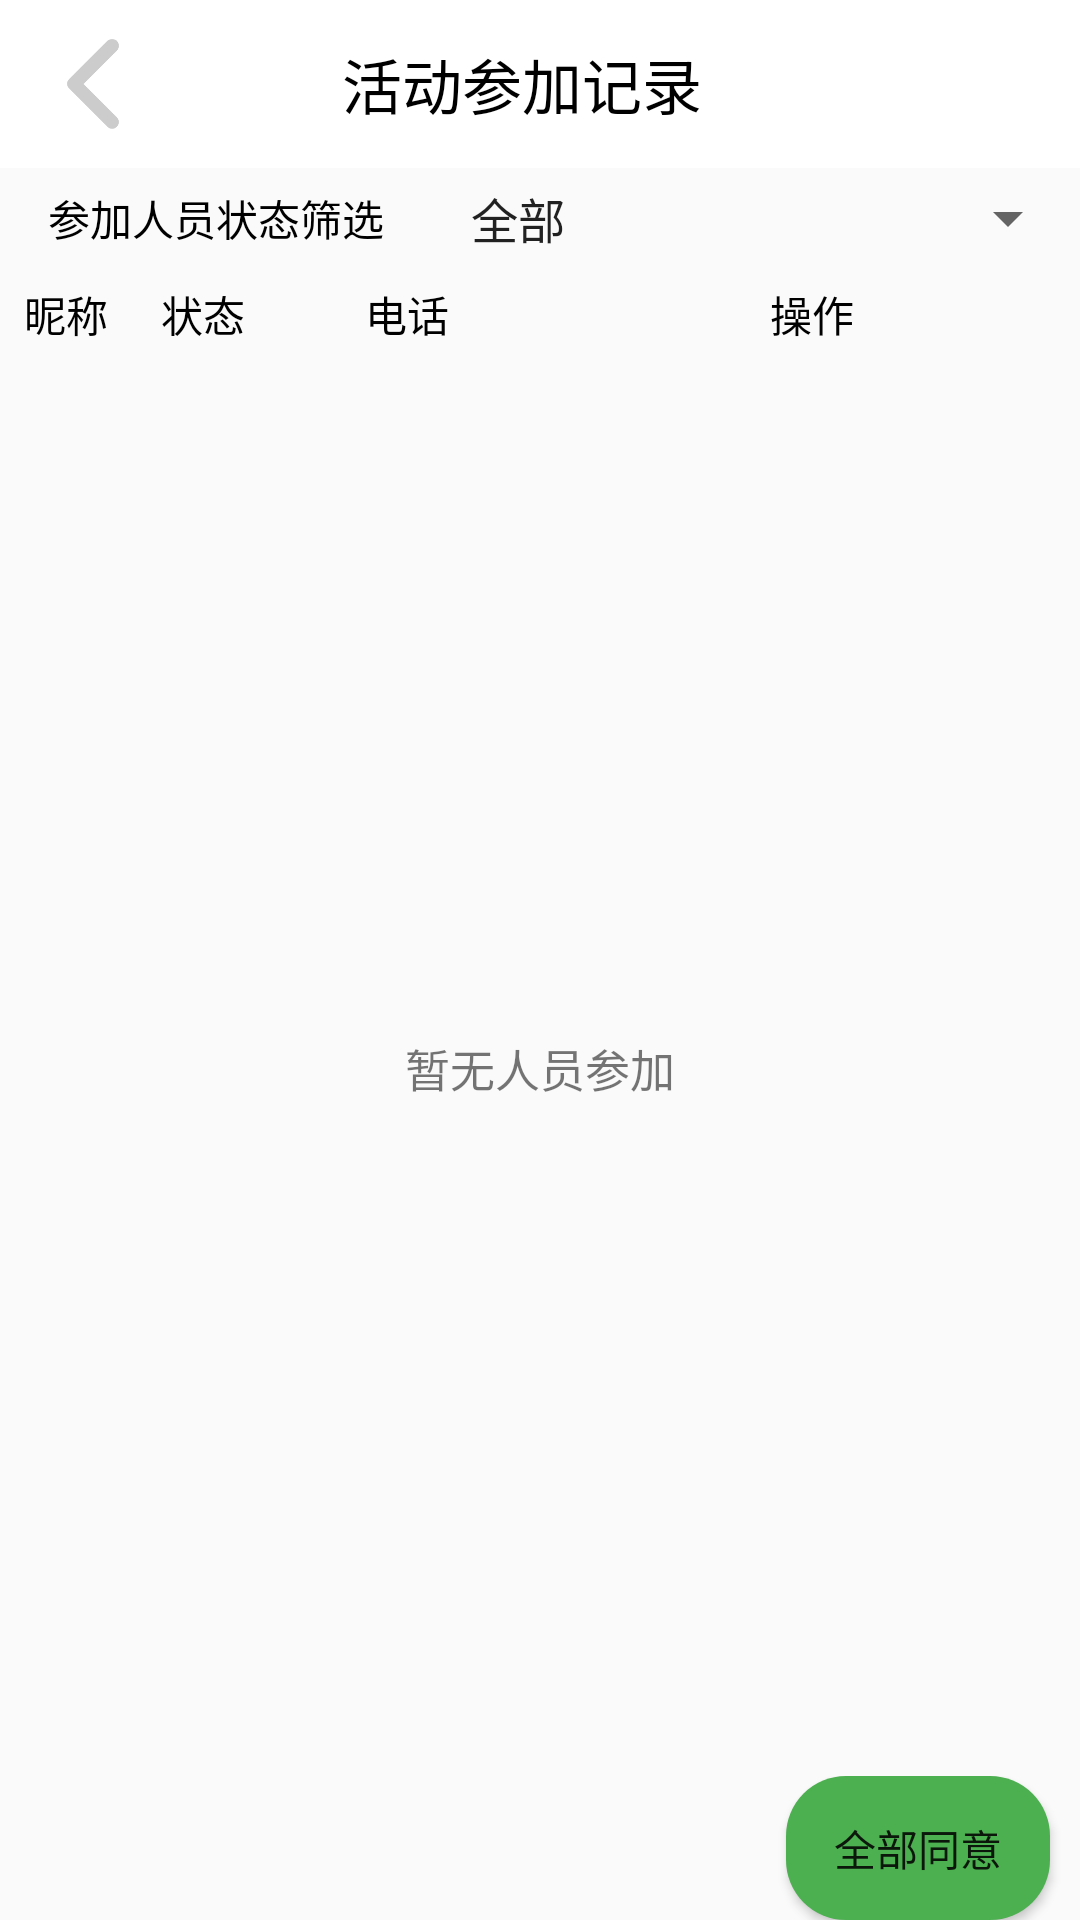

Where icons sit on this 1080x1920 app screen, as rect(x1, y1, x2, y2):
arrow left: rect(67, 39, 119, 129)
